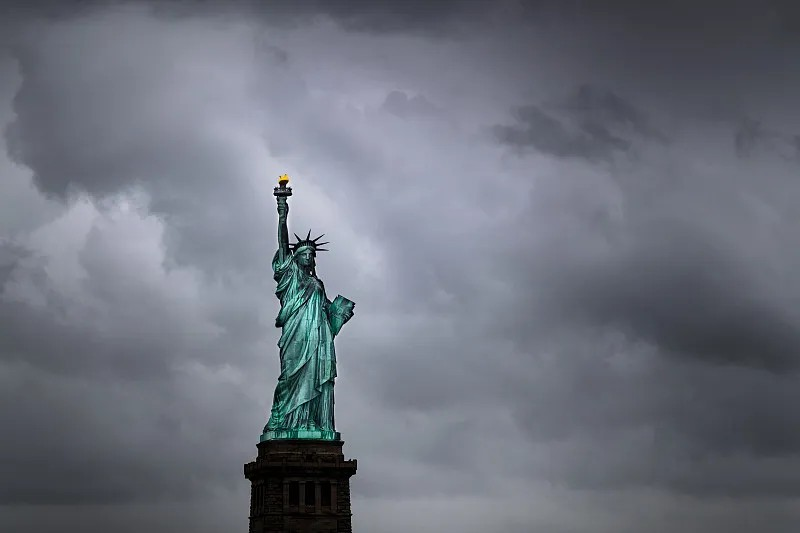SL: (243, 174, 357, 533)
